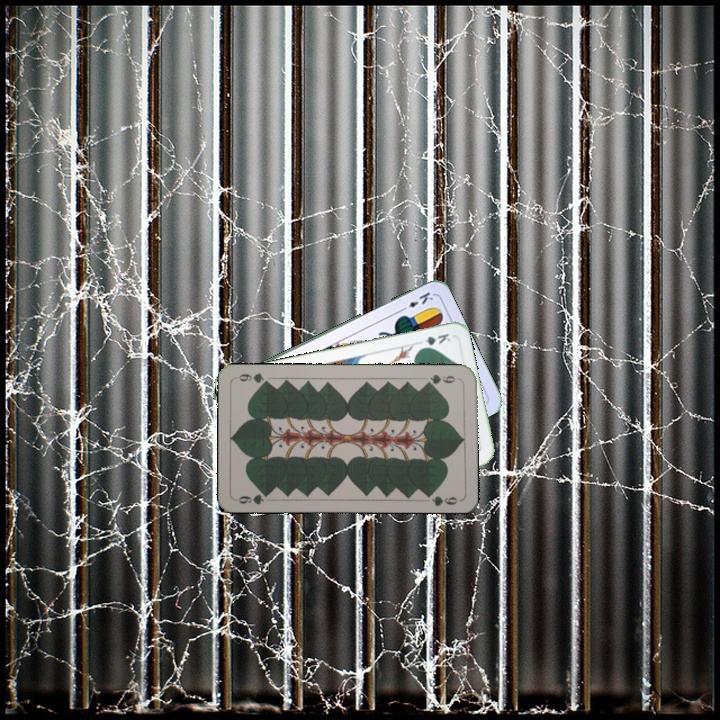EK: (397, 288, 436, 314)
G9: (233, 488, 273, 507), (421, 370, 462, 387)
GK: (415, 329, 453, 352)
